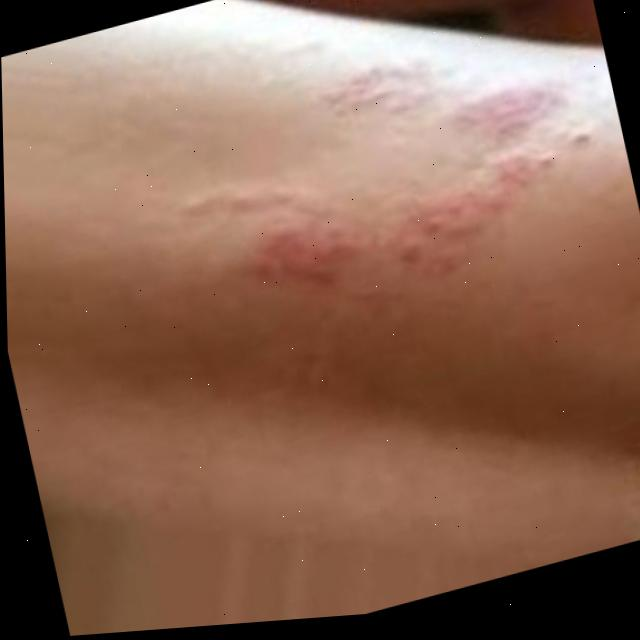Shingles: (214, 23, 545, 298)
